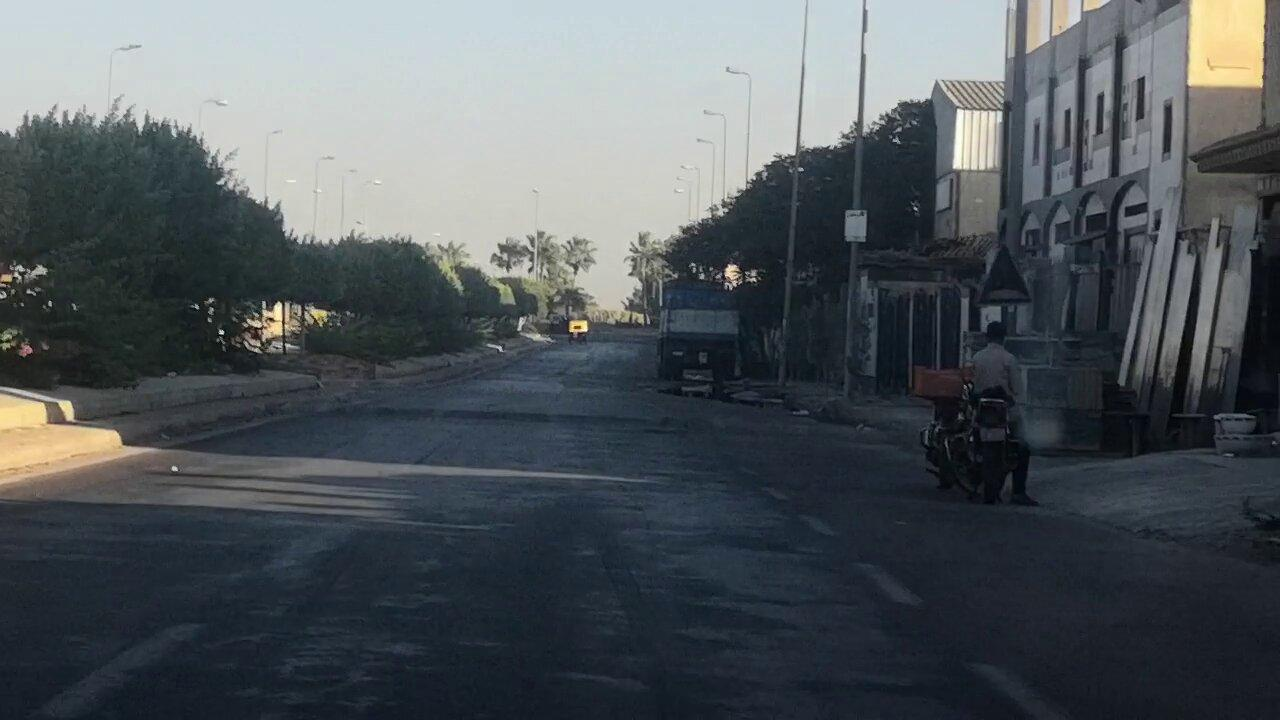Bump: (330, 403, 900, 441)
